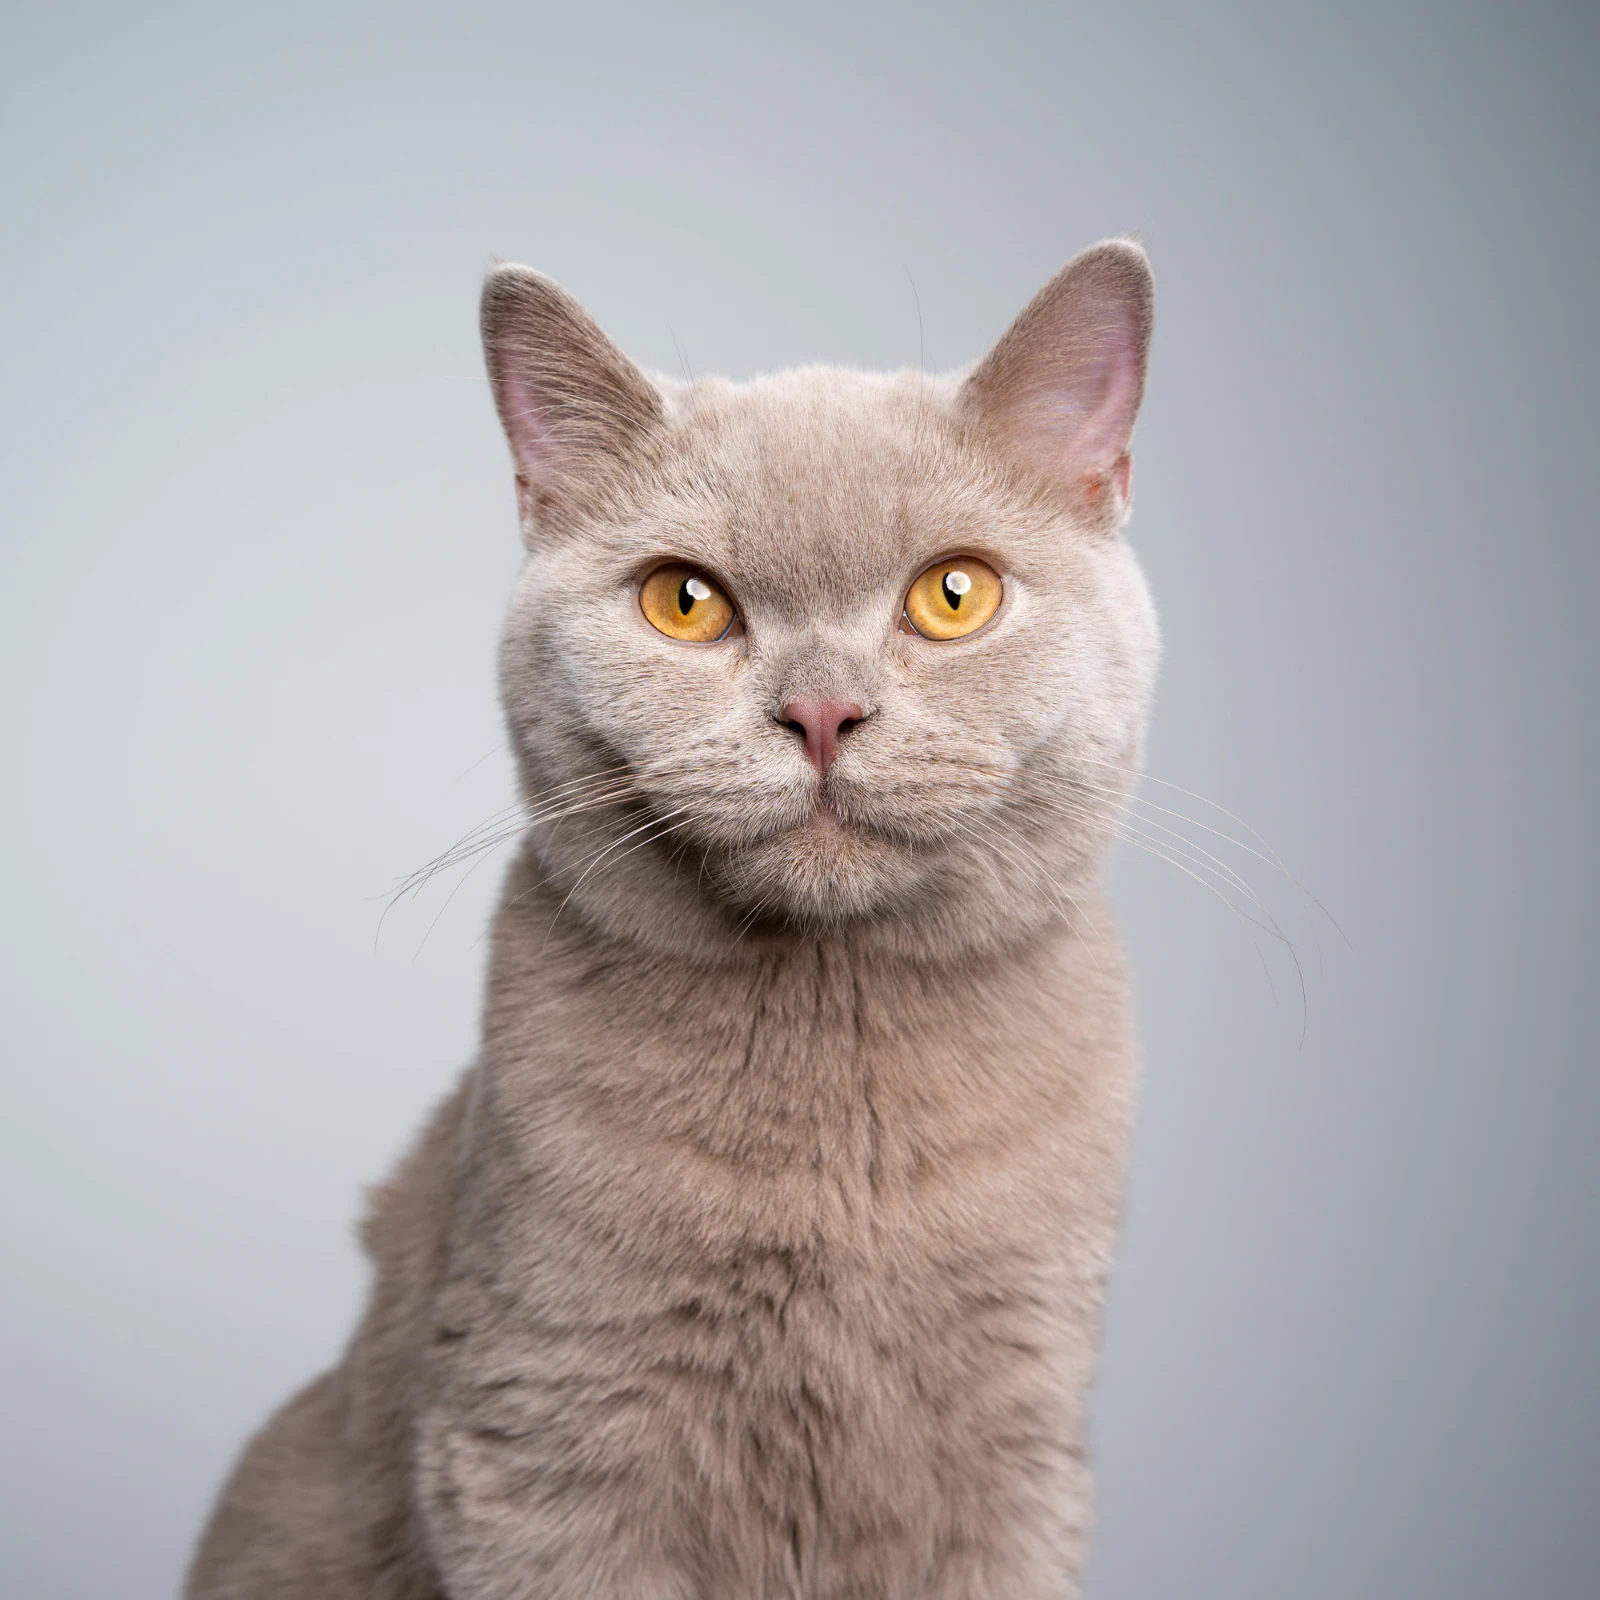cat: (459, 232, 1196, 1600)
